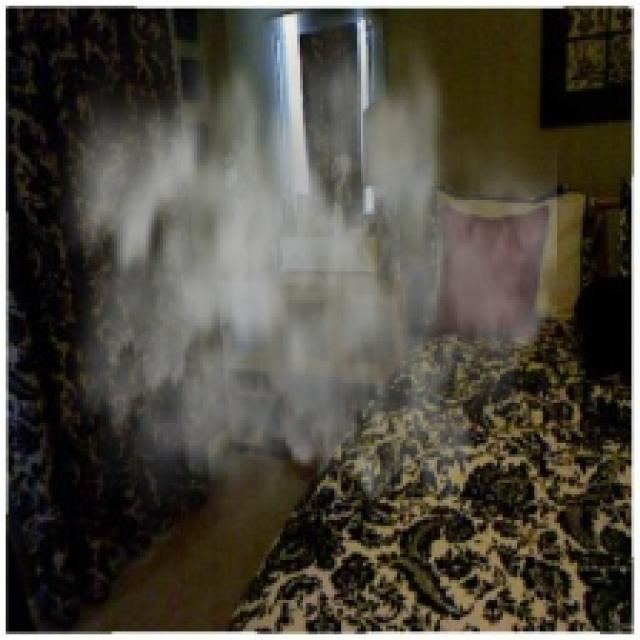smoke: (32, 14, 557, 563)
